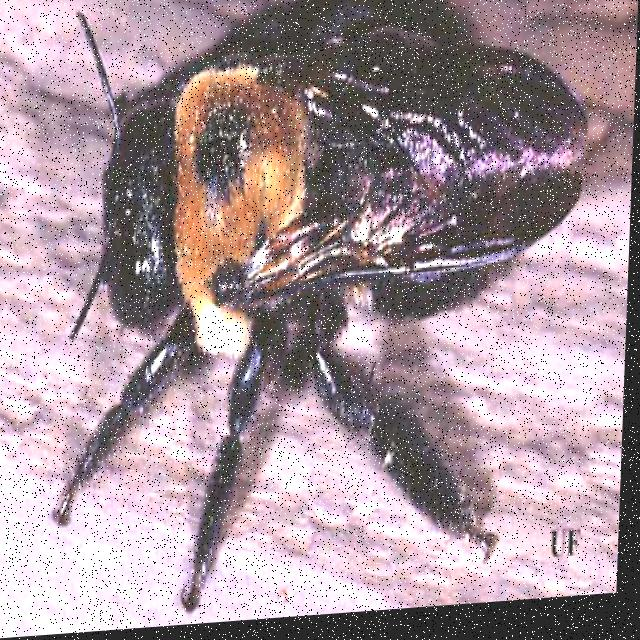Xylocopa: (48, 0, 628, 636)
